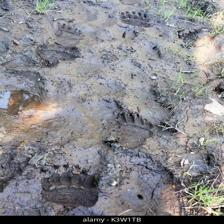bear: (36, 162, 101, 210), (110, 109, 154, 152)
